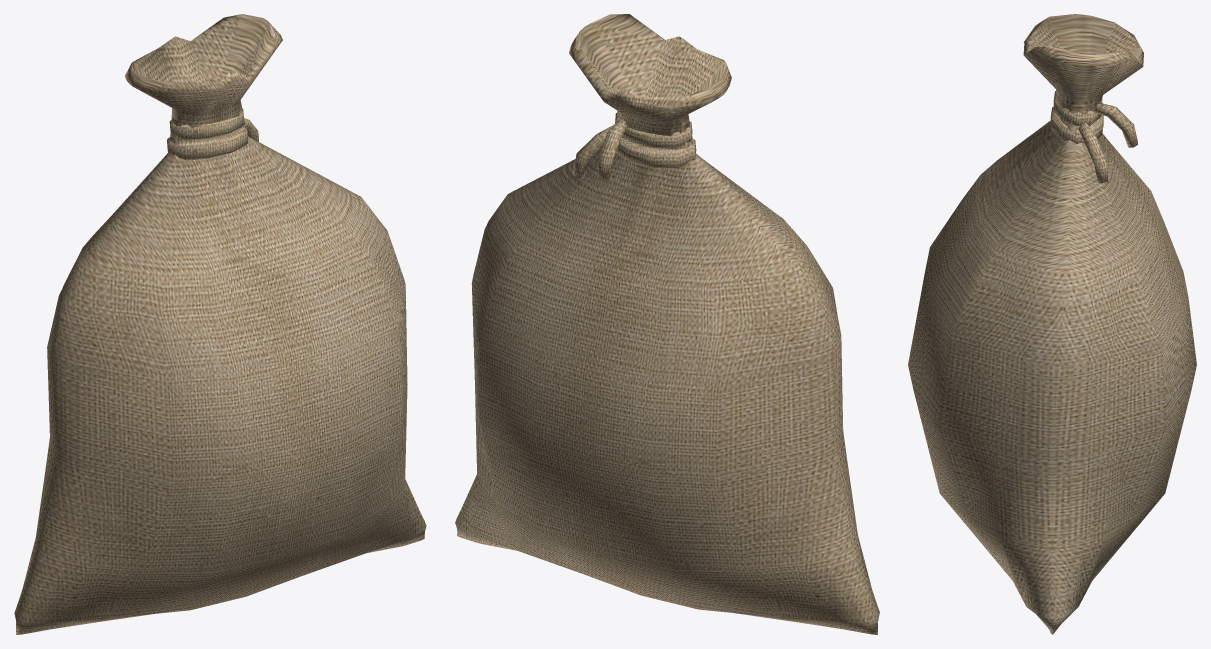
The model's file is sack01.dae.
3 renders of one model, left to right at view 1: azimuth 30°, elevation 25°; view 2: azimuth 150°, elevation 25°; view 3: azimuth 270°, elevation 25°, orthographic. The views are drawn at different scales.
Parts seen in each view (by area): view 1: meshU3D; view 2: meshU3D; view 3: meshU3D.
Part boxes in pixels (left/top/right/bottom): meshU3D: left=14, top=14, right=426, bottom=634; meshU3D: left=455, top=14, right=879, bottom=634; meshU3D: left=908, top=14, right=1196, bottom=634.
Size of the model in its own units: 0.8894 by 1.14 by 0.5702.
